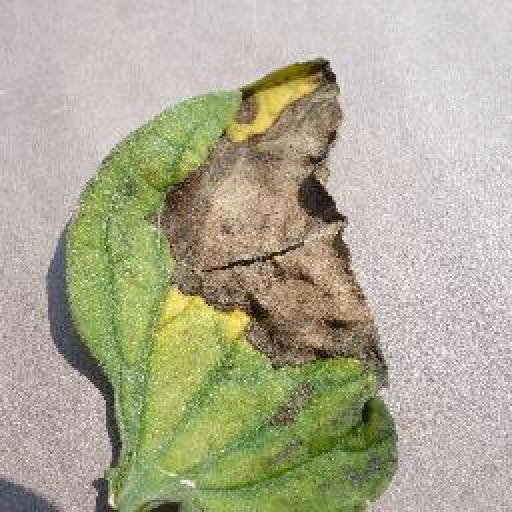disease_tomato: (64, 58, 402, 512)
